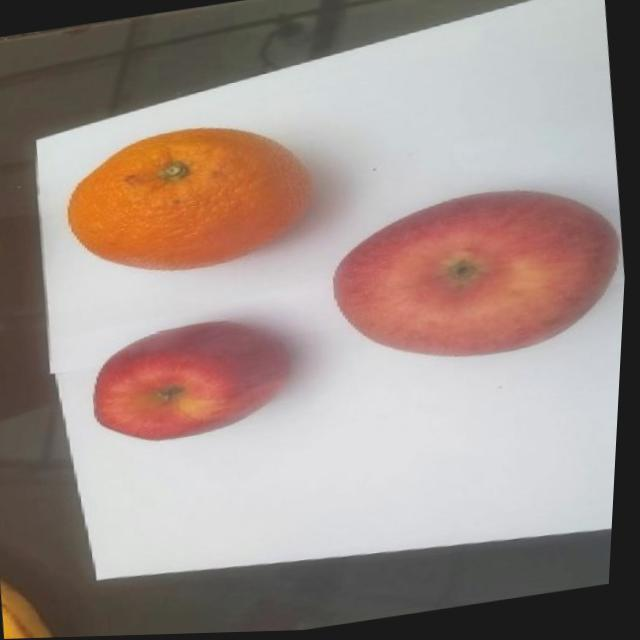Apple: (323, 176, 632, 382), (88, 312, 305, 453)
Banana: (5, 572, 76, 639)
Orange: (58, 112, 325, 290)
